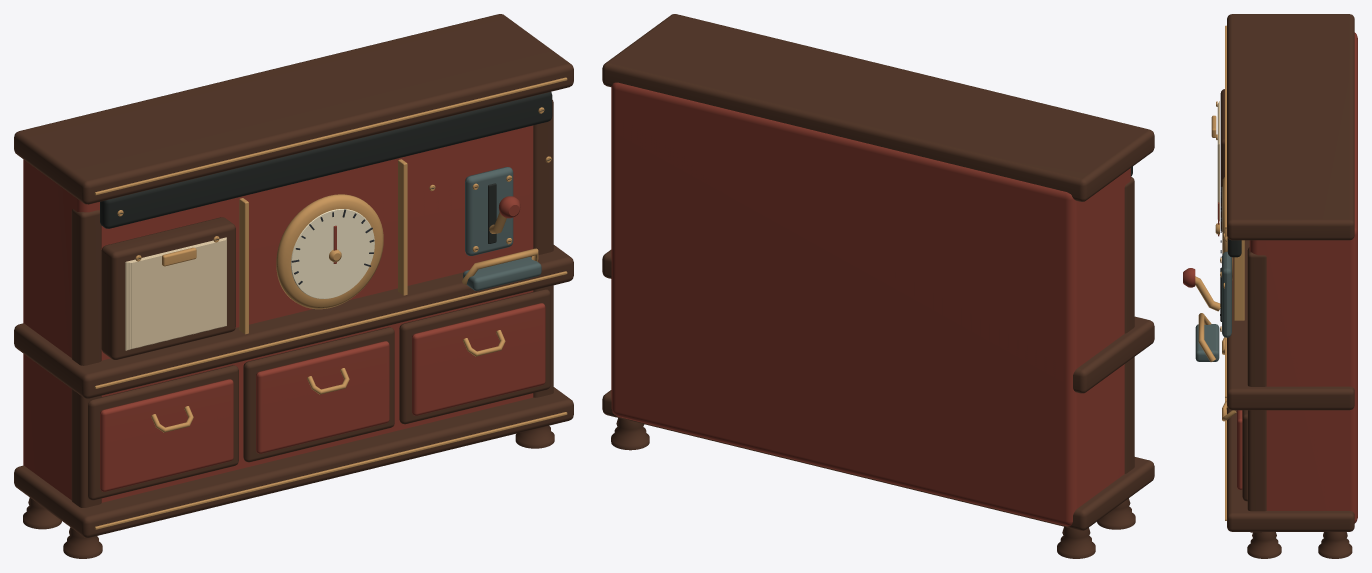
File: shutter.glb
3 views of the same model, side by side, from view 1: azimuth 30°, elevation 25°; view 2: azimuth 150°, elevation 25°; view 3: azimuth 270°, elevation 25° (orthographic). The views are drawn at different scales.
Parts seen in each view (by area): view 1: Projecting moulded rail.002, Carcass, Projecting moulded rail, Projecting moulded rail.001, Cast header plate, Fielded walnut panel, Fielded walnut panel.001, Fielded walnut panel.002, Deckled folio leaf.004, Dovetailed document tray, Ebonised stile, Pressure enamel face (+15 smaller); view 2: Carcass, Projecting moulded rail.002, Projecting moulded rail, Ebonised stile, Projecting moulded rail.001, Turned pilaster foot.001, Turned pilaster foot.003, Turned pilaster foot; view 3: Projecting moulded rail.002, Carcass, Projecting moulded rail.001, Ebonised stile.001, Projecting moulded rail, Slotted throw plate, Turned pilaster foot.002, Turned pilaster foot.003, Station divider.001, Drawbar shoe, Dovetailed document tray, Recessed door panel.002 (+6 smaller).
Part boxes in pixels (<box>): Projecting moulded rail.002: <box>14,14,573,204</box>; Carcass: <box>23,125,533,502</box>; Projecting moulded rail: <box>14,387,573,537</box>; Projecting moulded rail.001: <box>14,245,573,398</box>; Cast header plate: <box>100,92,552,228</box>; Fielded walnut panel: <box>100,379,233,491</box>; Fielded walnut panel.001: <box>256,341,389,453</box>; Fielded walnut panel.002: <box>412,303,545,415</box>; Deckled folio leaf.004: <box>131,239,226,348</box>; Dovetailed document tray: <box>101,217,235,359</box>; Ebonised stile: <box>71,209,101,507</box>; Pressure enamel face: <box>291,209,374,298</box>; Carcass: <box>611,82,1130,526</box>; Projecting moulded rail.002: <box>602,14,1154,201</box>; Projecting moulded rail: <box>602,390,1154,530</box>; Ebonised stile: <box>1124,177,1134,473</box>; Projecting moulded rail.001: <box>602,250,1154,393</box>; Turned pilaster foot.001: <box>1057,526,1095,558</box>; Turned pilaster foot.003: <box>611,418,649,450</box>; Turned pilaster foot: <box>1097,498,1135,529</box>; Projecting moulded rail.002: <box>1227,14,1354,240</box>; Carcass: <box>1249,32,1357,523</box>; Projecting moulded rail.001: <box>1227,240,1354,410</box>; Ebonised stile.001: <box>1247,247,1266,532</box>; Projecting moulded rail: <box>1227,407,1354,531</box>; Slotted throw plate: <box>1222,251,1231,337</box>; Turned pilaster foot.002: <box>1247,532,1281,558</box>; Turned pilaster foot.003: <box>1318,532,1352,558</box>; Station divider.001: <box>1234,240,1244,320</box>; Drawbar shoe: <box>1195,324,1219,361</box>; Dovetailed document tray: <box>1220,89,1224,231</box>; Recessed door panel.002: <box>1242,410,1247,501</box>.
Bounding box in the file's own units: 2.52 × 1.9 × 0.889.
